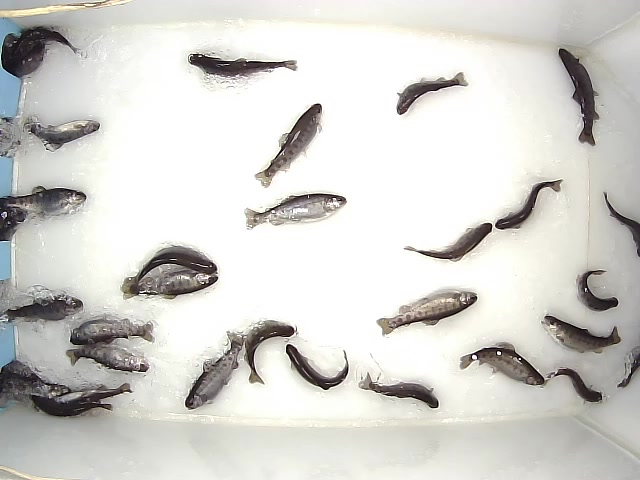fish: (253, 101, 324, 189), (184, 330, 246, 412), (375, 291, 479, 339), (557, 47, 602, 147), (122, 243, 218, 288), (243, 192, 348, 231), (459, 341, 545, 386), (402, 221, 493, 263), (494, 179, 564, 231), (540, 313, 622, 355), (244, 320, 295, 386), (119, 269, 220, 302), (395, 71, 469, 116), (285, 342, 349, 391), (356, 371, 440, 408), (20, 113, 101, 150), (187, 52, 298, 78), (1, 186, 88, 219), (602, 190, 640, 258), (69, 317, 157, 346), (1, 295, 85, 324), (64, 346, 150, 374), (53, 380, 134, 408), (541, 367, 603, 403), (575, 269, 619, 312)
